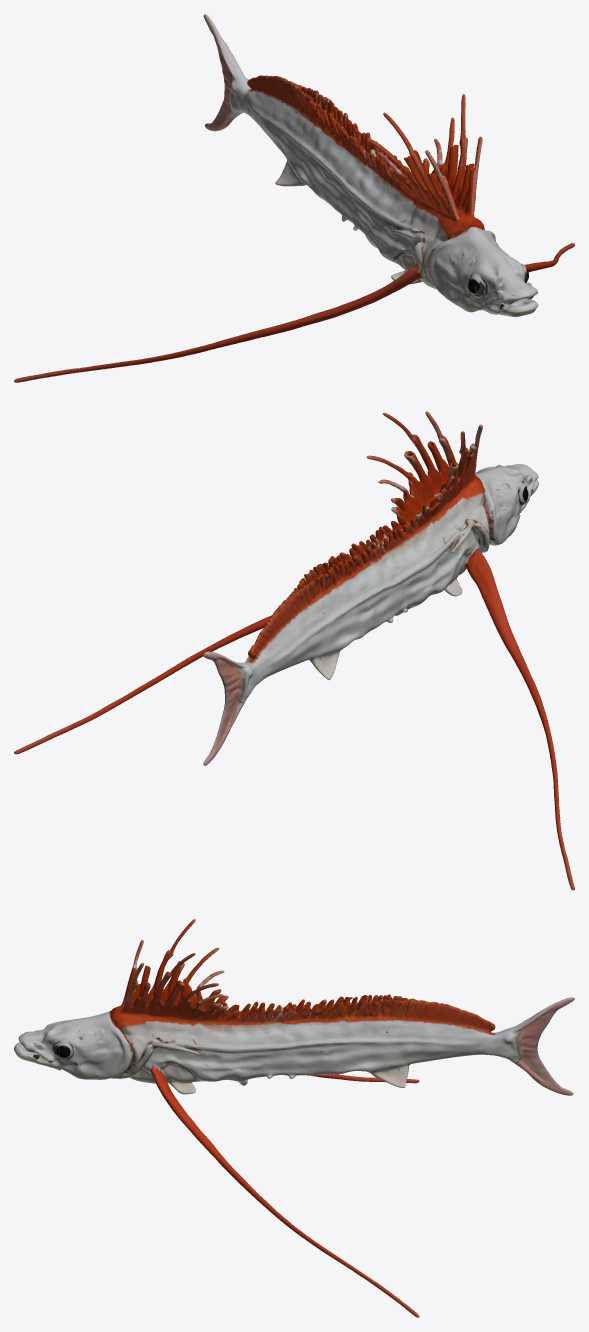
The model's file is oarfish_r1.glb.
3 renders of one model, top to bottom at view 1: azimuth 30°, elevation 25°; view 2: azimuth 150°, elevation 25°; view 3: azimuth 270°, elevation 25°, orthographic. The views are drawn at different scales.
Visible parts, largest first — view 1: tripo_node_024015c1-78e0-453d-be0a-1e214dcf863d; view 2: tripo_node_024015c1-78e0-453d-be0a-1e214dcf863d; view 3: tripo_node_024015c1-78e0-453d-be0a-1e214dcf863d.
Part boxes in pixels (<box>): tripo_node_024015c1-78e0-453d-be0a-1e214dcf863d: <box>14,14,574,382</box>; tripo_node_024015c1-78e0-453d-be0a-1e214dcf863d: <box>14,411,574,890</box>; tripo_node_024015c1-78e0-453d-be0a-1e214dcf863d: <box>14,919,574,1317</box>.
Bounding box in the file's own units: 0.9982 × 0.5201 × 1.
1 material, 1 textured.
